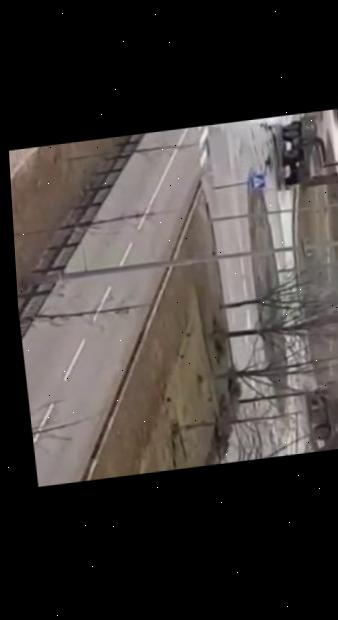truck: (277, 112, 331, 187), (309, 369, 338, 452)
